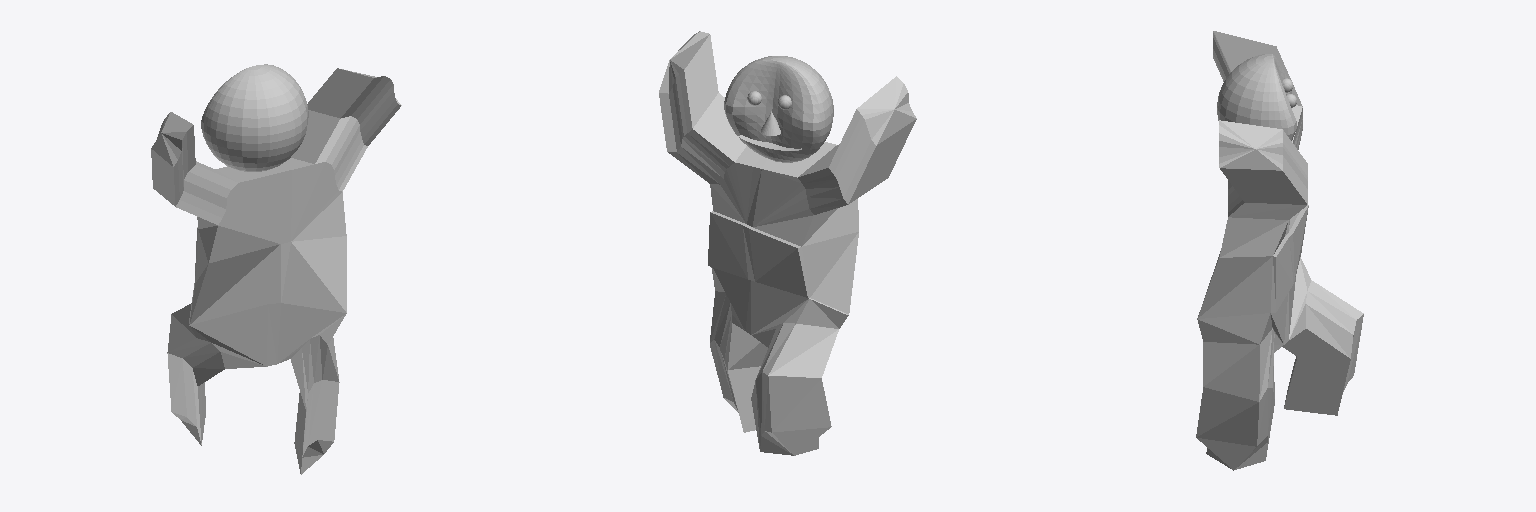
File: man_000023.obj
3 renders of one model, left to right at view 1: azimuth 30°, elevation 25°; view 2: azimuth 150°, elevation 25°; view 3: azimuth 270°, elevation 25°, orthographic.
Parts seen in each view (by area): view 1: Cube; view 2: Cube; view 3: Cube.
Boxes of the visible parts, x1=… form: Cube: x1=151, y1=64, x2=401, y2=474; Cube: x1=659, y1=31, x2=916, y2=455; Cube: x1=1196, y1=31, x2=1363, y2=470.
Size of the model in its own units: 79.08 by 127 by 49.8.